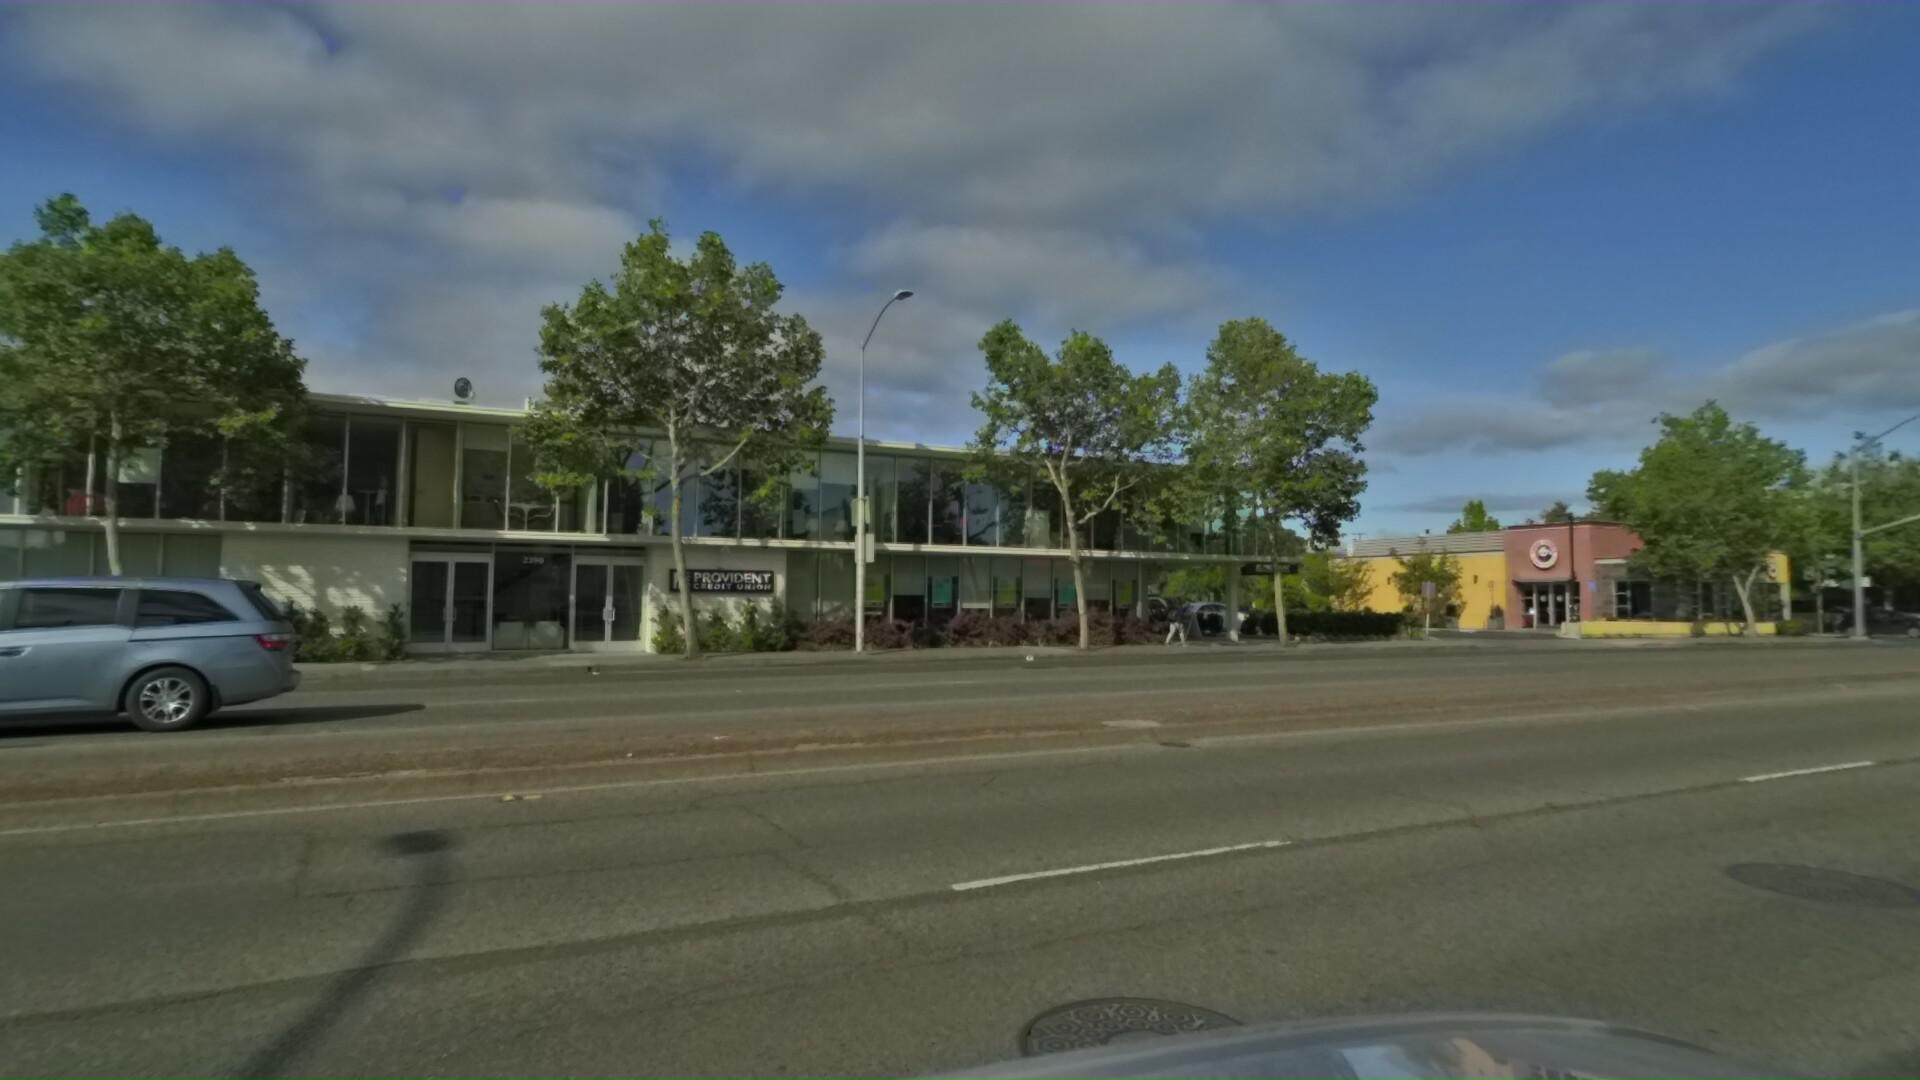car: (0, 553, 282, 770), (1826, 607, 1920, 640)
